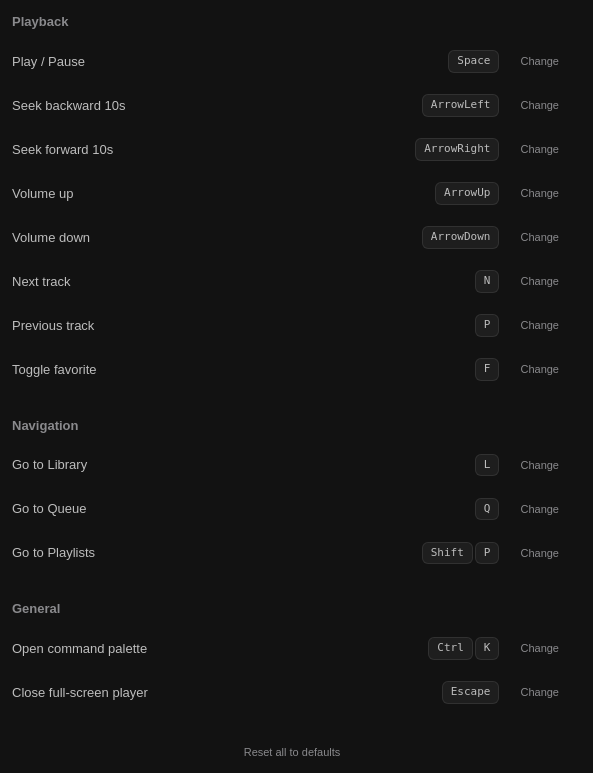
Scenario: KeyboardShortcutsSettings › clicking Change and pressing a new key rebinds the shortcut
Click the button "Change" in the row of "Toggle favorite" at (540,370), box left=508, top=356, right=572, bottom=384
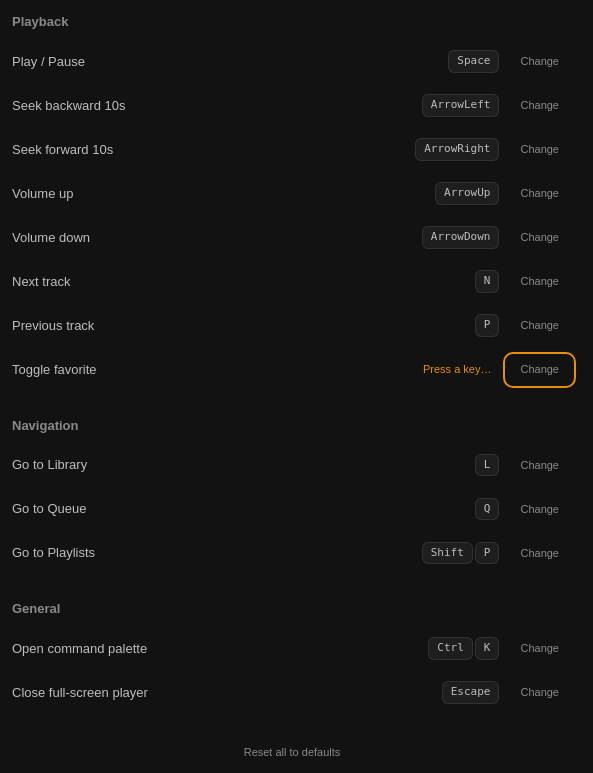
Result: the text "Press a key…" is shown at left=423, top=363, right=492, bottom=375
Press g
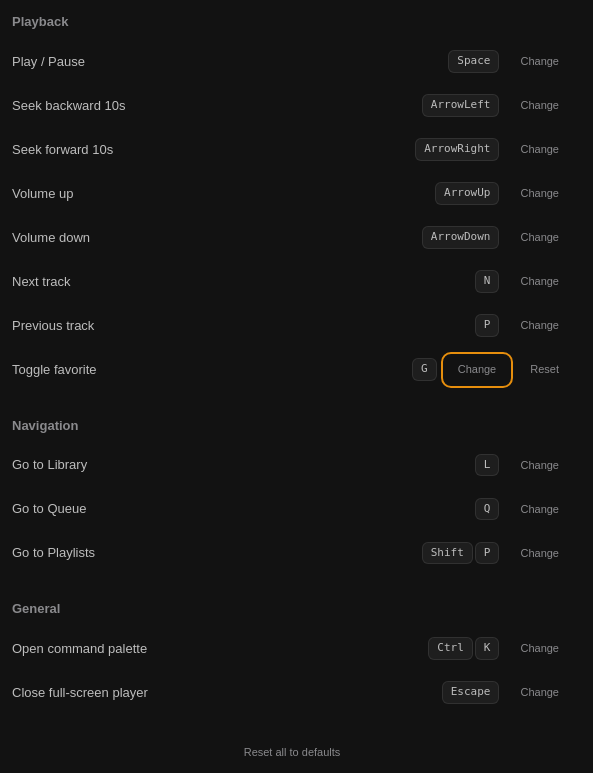
Result: the text "G" is shown at left=412, top=358, right=437, bottom=381
Result: the button "Reset" is shown at left=517, top=356, right=572, bottom=384
